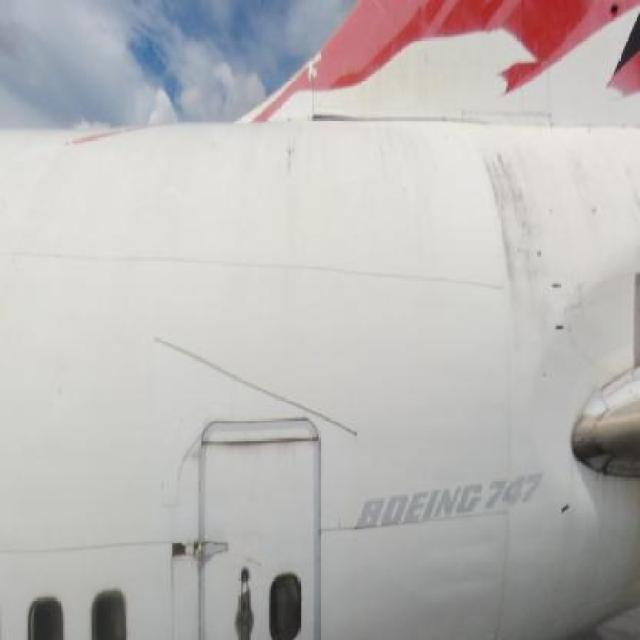Missing-Rivet: (598, 452, 638, 501), (603, 367, 640, 408)
Rust: (473, 121, 565, 384), (567, 123, 640, 259), (264, 110, 345, 215), (210, 422, 332, 476)
Scartch: (556, 272, 604, 346)
